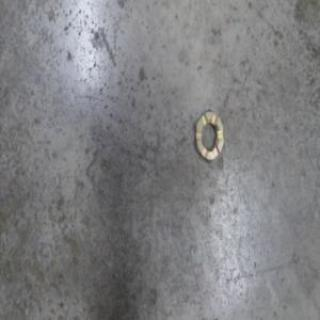Nuttrack_idkeyframe: (194, 107, 224, 165)
